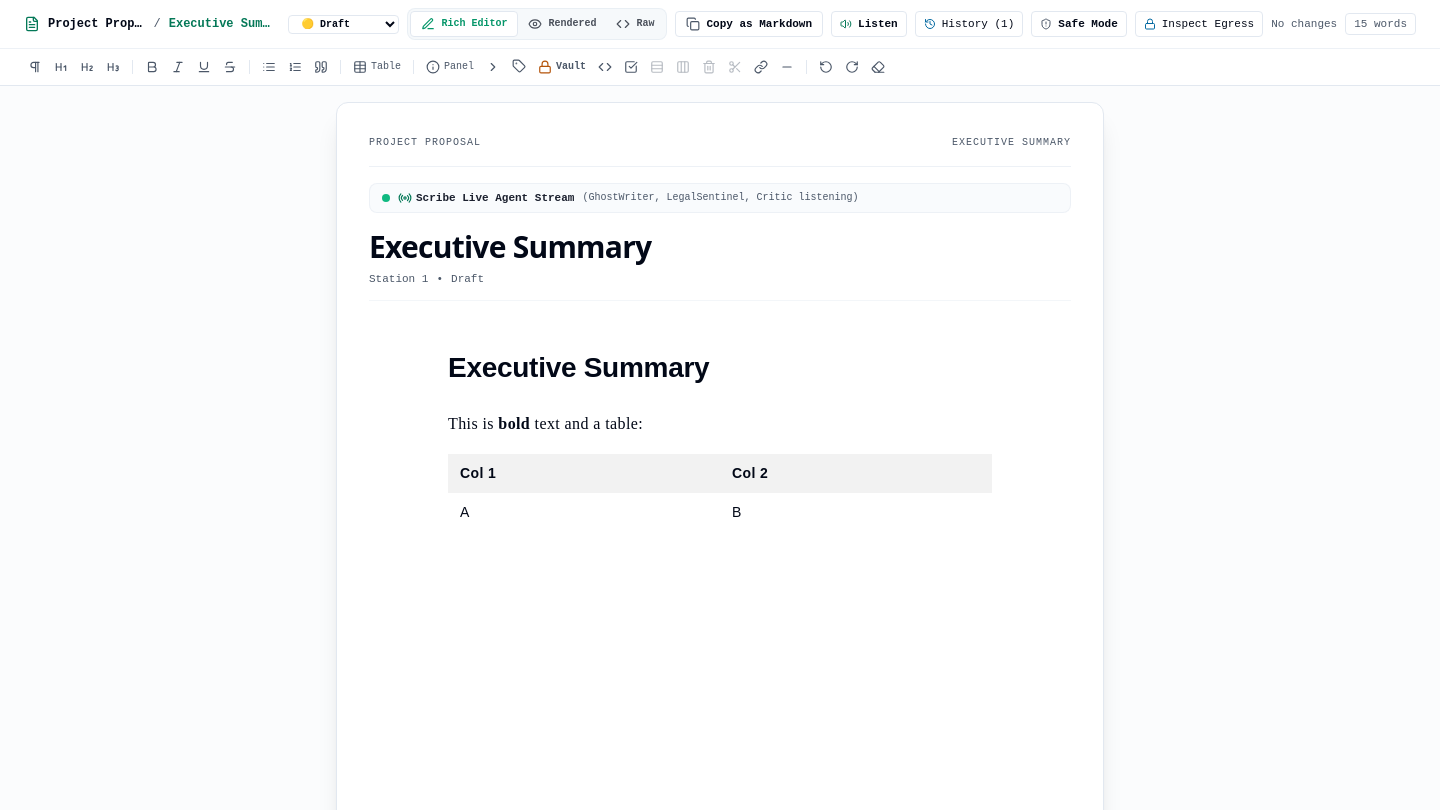
Test case: LivingDocumentCanvas Rich HTML & Copy as Markdown › copies markdown to clipboard on clicking Copy as Markdown
What coordinates should you click on to do the following:
click the button "Copy as Markdown"
I would click on:
 (749, 24)
Its box is [676,11,823,37].
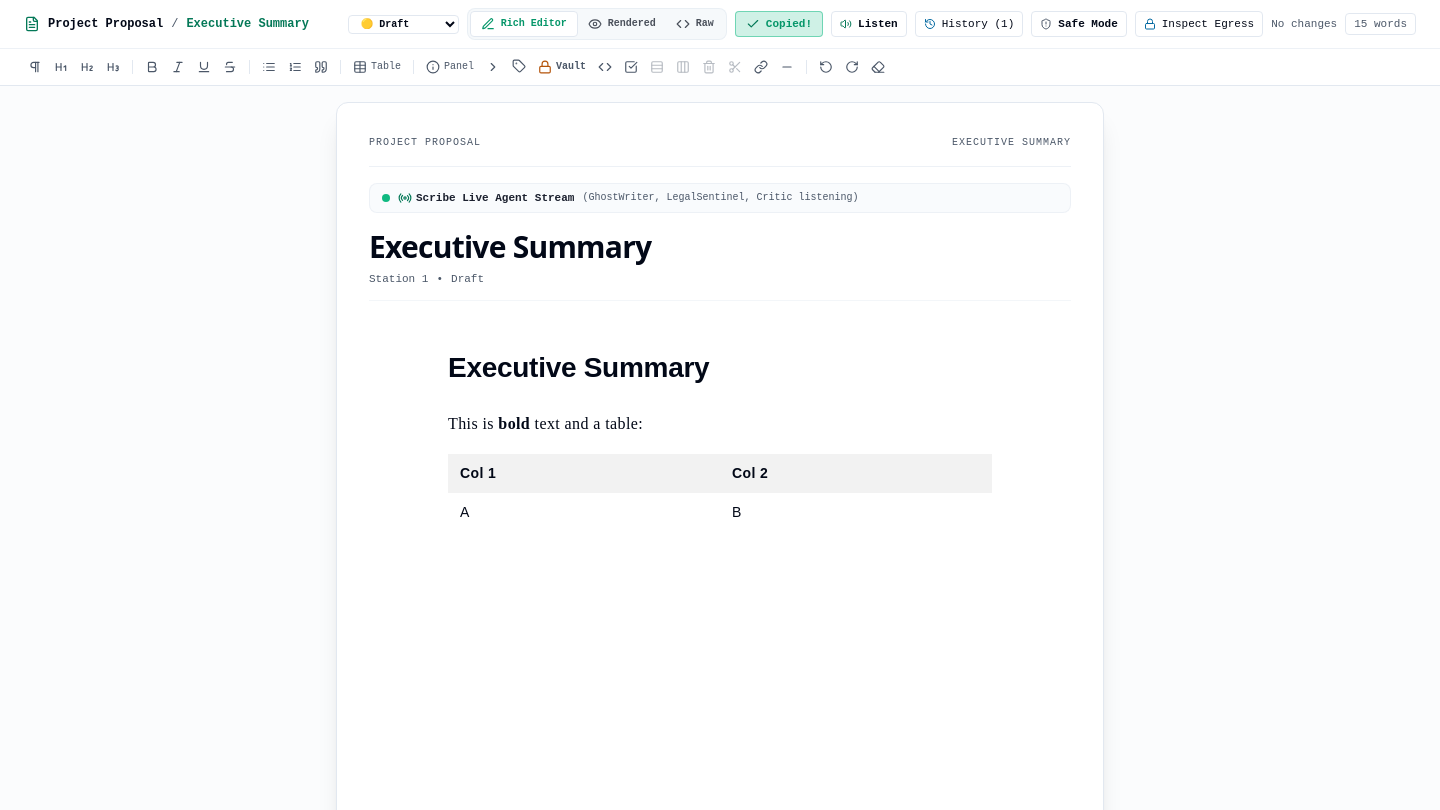
Expected: the text "Copied!" is shown, [766,16,812,32]
